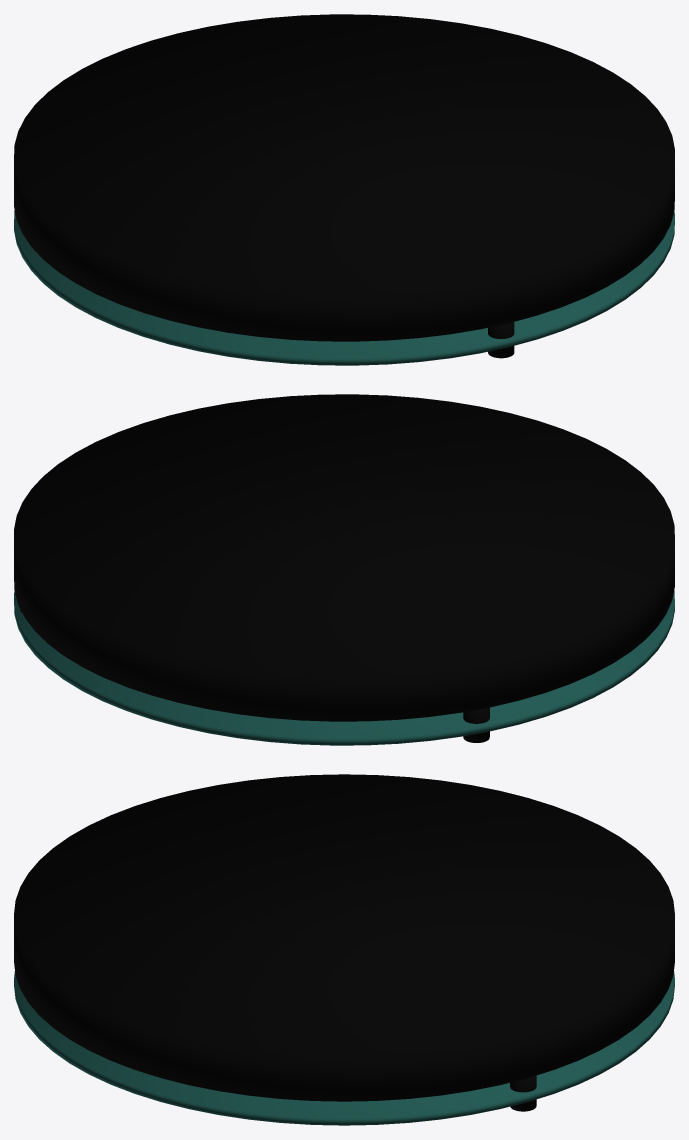
Rendered from IAIAnteroomLight.FBX.
3 renders of one model, top to bottom at view 1: azimuth 30°, elevation 25°; view 2: azimuth 150°, elevation 25°; view 3: azimuth 270°, elevation 25°, orthographic.
Parts seen in each view (by area): view 1: SM_IAIAnteroomLight; view 2: SM_IAIAnteroomLight; view 3: SM_IAIAnteroomLight.
Boxes of the visible parts, left/top/right/bottom form: SM_IAIAnteroomLight: left=14, top=14, right=674, bottom=365; SM_IAIAnteroomLight: left=14, top=394, right=674, bottom=745; SM_IAIAnteroomLight: left=14, top=774, right=674, bottom=1125.
Size of the model in its own units: 25 by 25 by 3.5.
